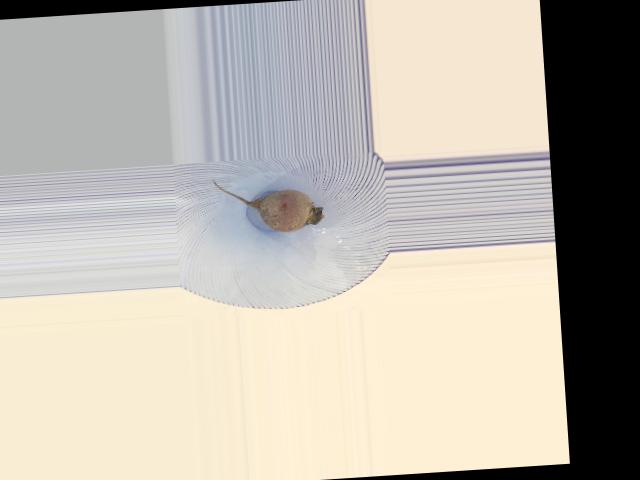beet: (213, 173, 325, 235)
